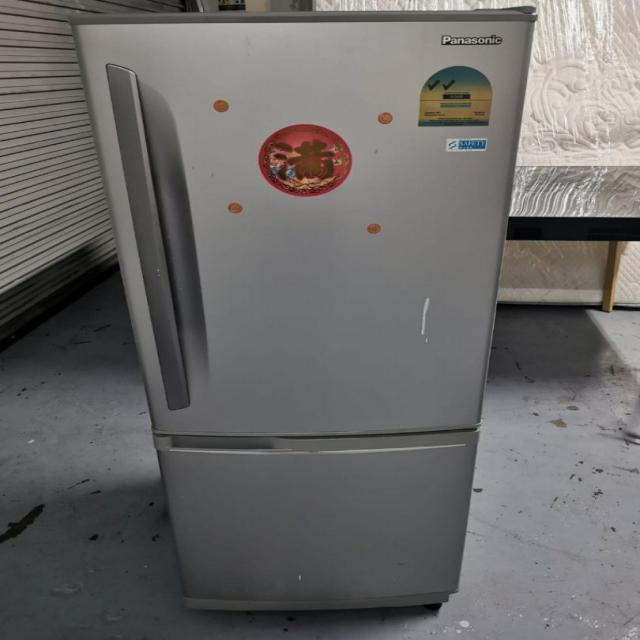refrigerator: (62, 7, 543, 615)
